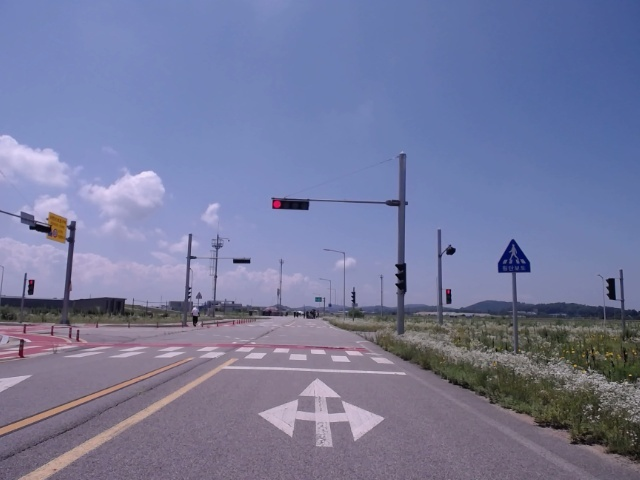red_4: (271, 199, 308, 210)
